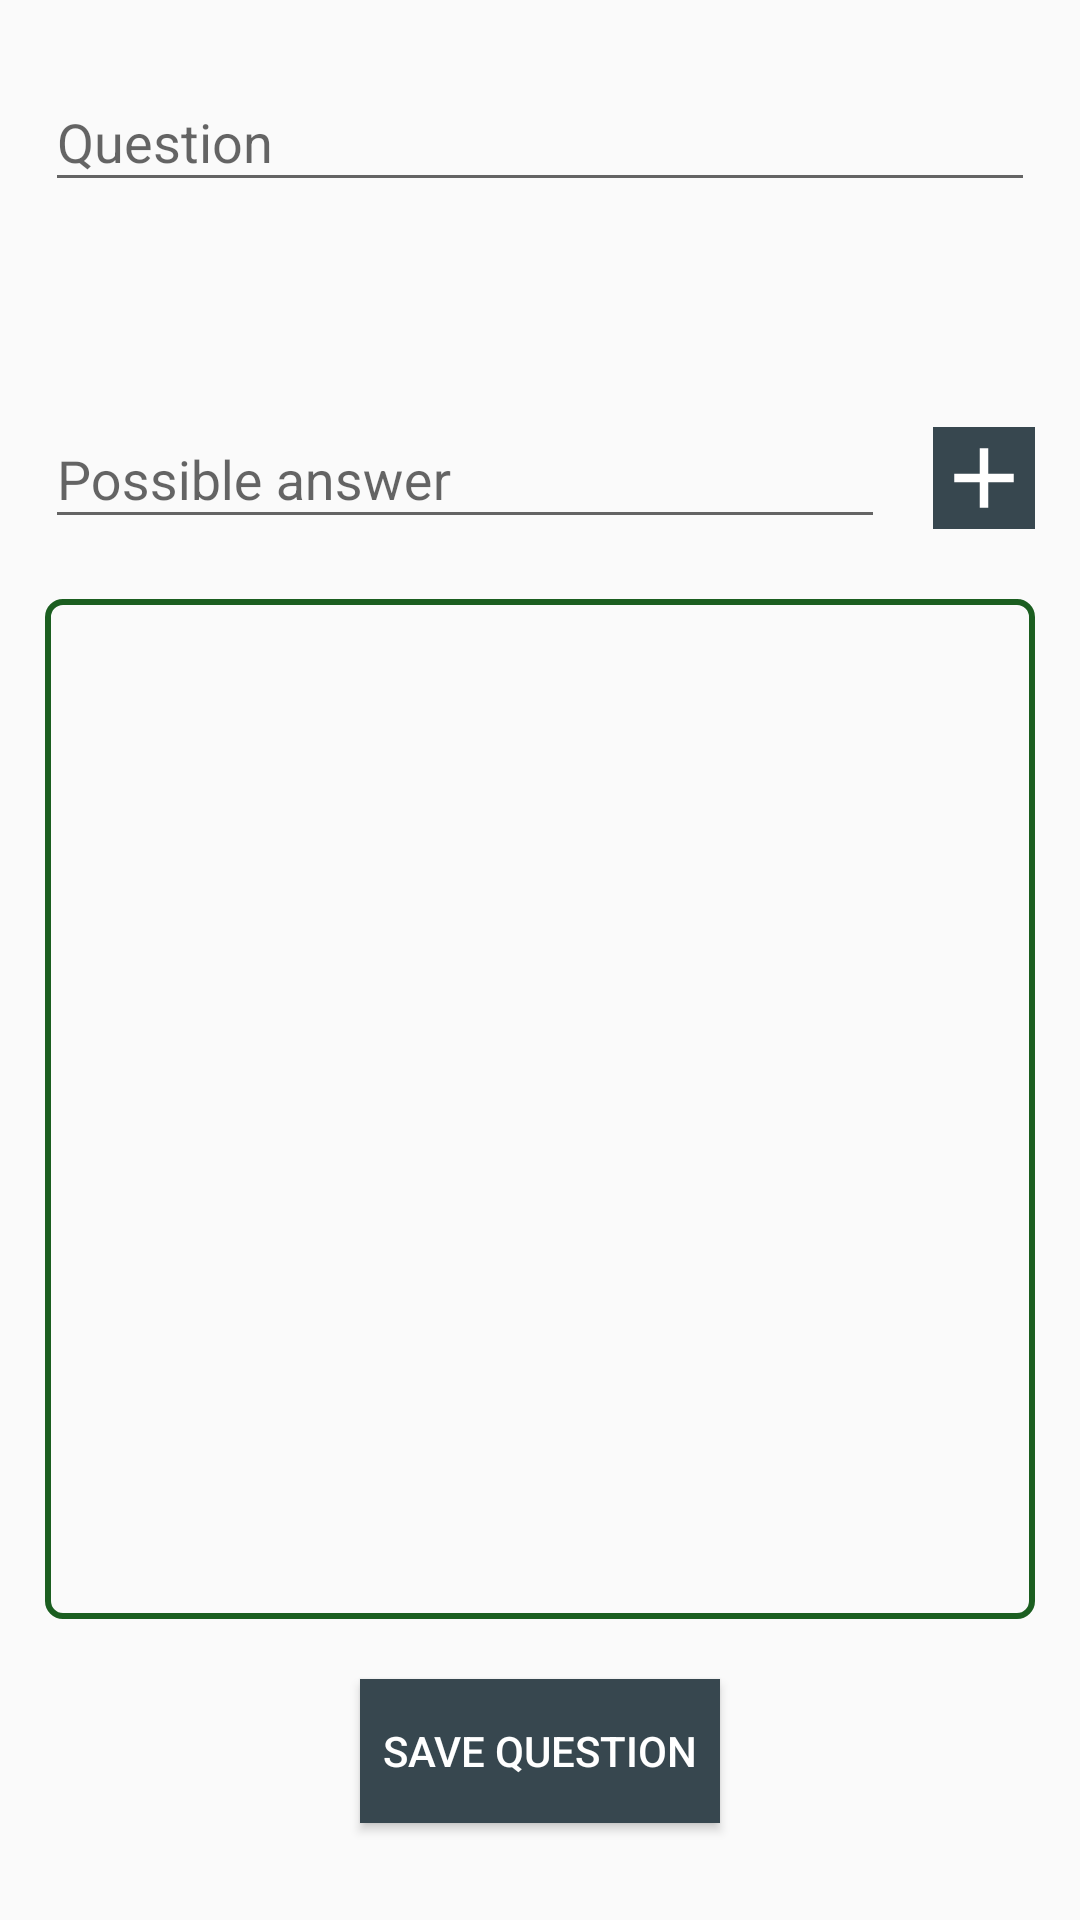

Named icons in this screenshot (1080×1920) and their bounding boxes, (x1, y1, x2, y2):
add: (933, 427, 1035, 529)
